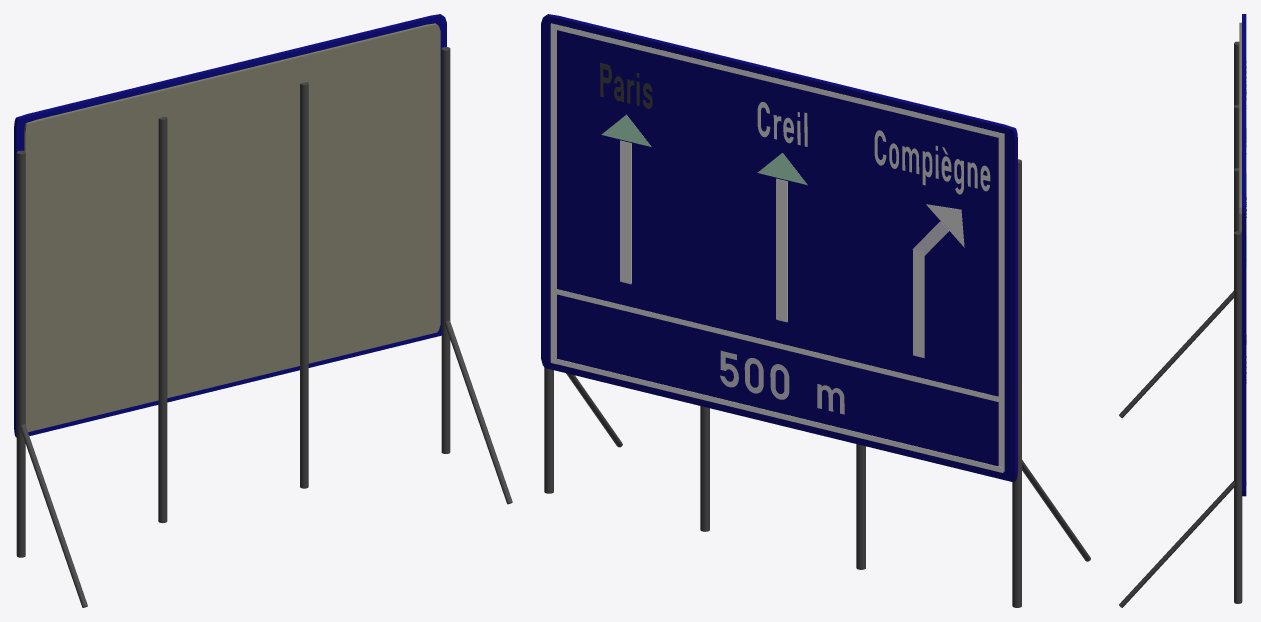
The model's file is roadsignfrance2.obj.
3 renders of one model, left to right at view 1: azimuth 30°, elevation 25°; view 2: azimuth 150°, elevation 25°; view 3: azimuth 270°, elevation 25°, orthographic. The views are drawn at different scales.
Visible parts, largest first — view 1: Cube.005, Cube, Cylinder.002, Cylinder.003, Cylinder, Cylinder.001, Cylinder.005, Cylinder.004; view 2: Cube, Cube.002, Cube.001, Cube.012, Cylinder.003, Cube.003, Cube.004, Text.002, Text.003, Cube.007, Cube.009, Cube.010 (+6 smaller); view 3: Cylinder, Cube, Cylinder.005, Cylinder.004, Cube.005, Cylinder.001, Cylinder.002, Cylinder.003.
Part boxes in pixels (x1,y1,x2,y2): Cube.005: [24, 23, 440, 432]; Cube: [14, 14, 446, 437]; Cylinder.002: [158, 116, 167, 523]; Cylinder.003: [16, 150, 25, 557]; Cylinder: [441, 47, 450, 453]; Cylinder.001: [300, 82, 308, 488]; Cylinder.005: [445, 320, 512, 504]; Cylinder.004: [20, 424, 87, 607]; Cube: [541, 14, 1017, 482]; Cube.002: [556, 359, 1003, 472]; Cube.001: [553, 24, 998, 137]; Cube.012: [555, 288, 998, 401]; Cylinder.003: [1012, 159, 1021, 607]; Cube.003: [550, 23, 556, 364]; Cube.004: [998, 132, 1004, 471]; Text.002: [874, 130, 990, 194]; Text.003: [720, 350, 844, 414]; Cube.007: [620, 140, 631, 284]; Cube.009: [776, 178, 787, 322]; Cube.010: [913, 249, 924, 358]; Cylinder: [1234, 231, 1242, 603]; Cube: [1242, 14, 1246, 496]; Cylinder.005: [1119, 480, 1235, 607]; Cylinder.004: [1119, 291, 1233, 418]; Cube.005: [1239, 22, 1241, 231]; Cylinder.001: [1234, 168, 1239, 232]; Cylinder.002: [1234, 104, 1239, 169]; Cylinder.003: [1234, 41, 1239, 105].
Bounding box in the file's own units: 3.05 × 2.98 × 0.8551.
